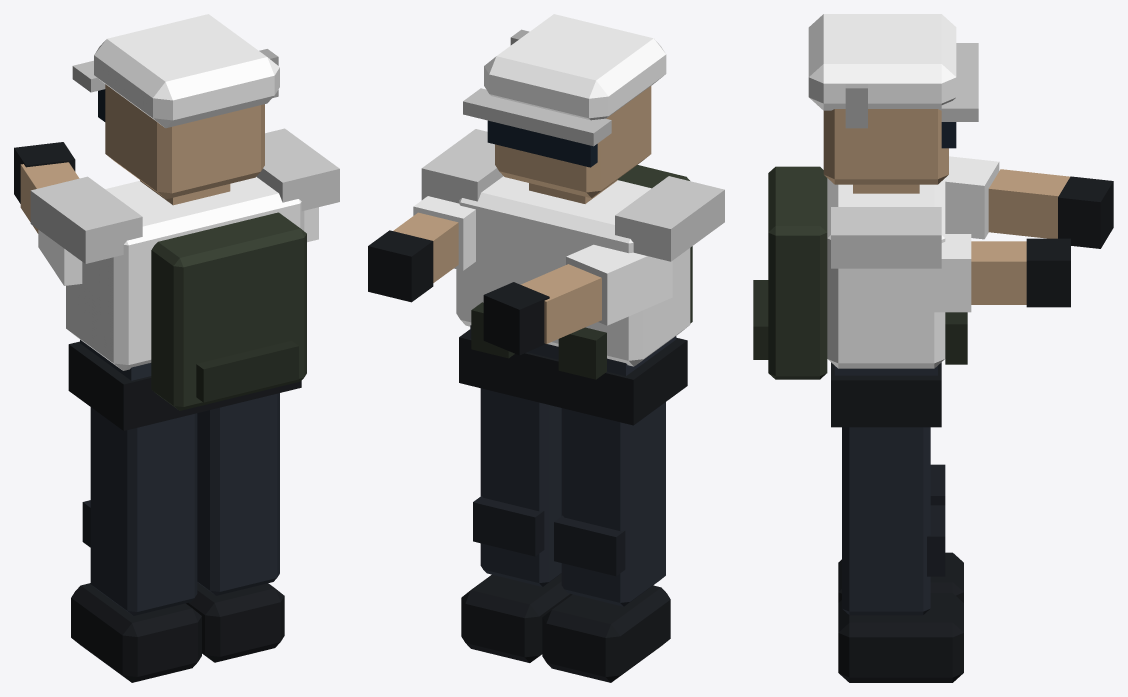
File: character.glb
3 renders of one model, left to right at view 1: azimuth 30°, elevation 25°; view 2: azimuth 150°, elevation 25°; view 3: azimuth 270°, elevation 25°, orthographic. The views are drawn at different scales.
Visible parts, largest first — view 1: Torso, LegL, TorsoAccent, LegR, HeadAccent, Head, ArmsSkin, ArmsAccent; view 2: TorsoAccent, LegL, LegR, HeadAccent, Torso, ArmsSkin, Head, ArmsAccent; view 3: LegR, Torso, TorsoAccent, HeadAccent, ArmsSkin, Head, ArmsAccent, LegL.
Part boxes in pixels (x1,y1,x2,y2): Torso: (68,212,306,430); LegL: (71,407,201,682); TorsoAccent: (30,128,339,370); LegR: (186,393,284,662); HeadAccent: (72,14,279,128); Head: (98,84,264,205); ArmsSkin: (14,142,79,233); ArmsAccent: (38,207,318,285); TorsoAccent: (421,129,724,366); LegL: (542,402,670,682); LegR: (461,388,572,662); HeadAccent: (463,14,666,146); Torso: (459,165,692,425); ArmsSkin: (368,212,601,355); Head: (487,86,651,203); ArmsAccent: (413,196,672,325); LegR: (838,427,963,682); Torso: (753,166,967,427); TorsoAccent: (827,178,945,368); HeadAccent: (808,14,978,128); ArmsSkin: (971,169,1113,307); Head: (823,109,956,193); ArmsAccent: (860,156,999,312); LegL: (838,464,963,602).
Size of the model in its own units: 0.8 by 1.82 by 0.9755.
